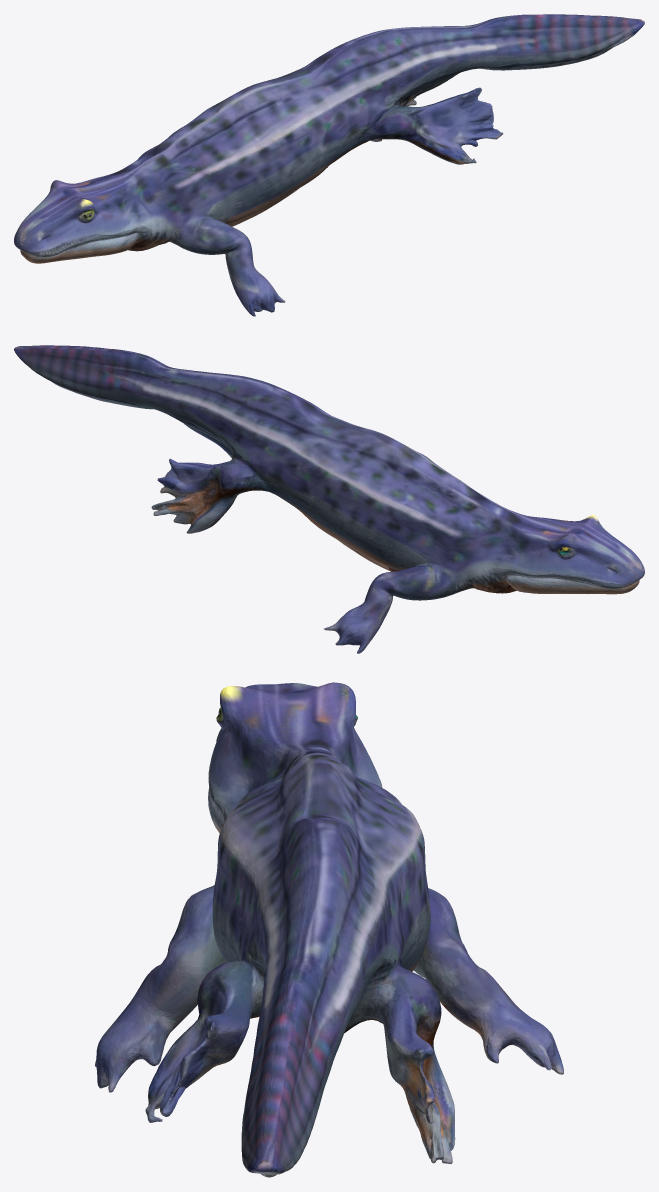
File: temnospondyl_amphibian.fbx
The picture shows the model from 3 angles, top to bottom: view 1: azimuth 30°, elevation 25°; view 2: azimuth 150°, elevation 25°; view 3: azimuth 270°, elevation 25°; orthographic projection. The views are drawn at different scales.
Parts seen in each view (by area): view 1: world; view 2: world; view 3: world.
Part boxes in pixels (x1,y1,x2,y2): world: [14, 14, 644, 316]; world: [14, 345, 644, 653]; world: [95, 682, 563, 1177].
Size of the model in its own units: 199 by 60.77 by 64.64.
1 material, 1 textured.
